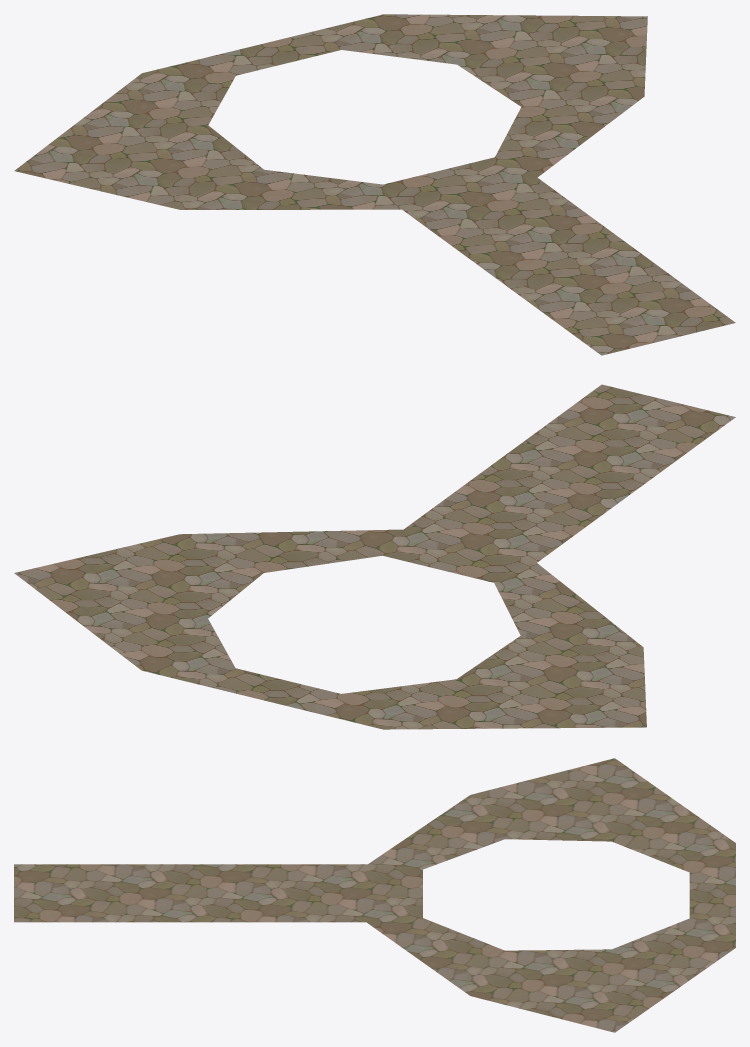
Rendered from scene_feicuizhita_tading04.FBX.
The picture shows the model from 3 angles, top to bottom: view 1: azimuth 30°, elevation 25°; view 2: azimuth 150°, elevation 25°; view 3: azimuth 270°, elevation 25°; orthographic projection. The views are drawn at different scales.
Visible parts, largest first — view 1: scene_feicuizhita_tading04; view 2: scene_feicuizhita_tading04; view 3: scene_feicuizhita_tading04.
Part boxes in pixels (x1=…): scene_feicuizhita_tading04: x1=14, y1=14, x2=735, y2=355; scene_feicuizhita_tading04: x1=14, y1=384, x2=735, y2=729; scene_feicuizhita_tading04: x1=14, y1=758, x2=735, y2=1032.
Size of the model in its own units: 1780 by 5.98 by 1977.
